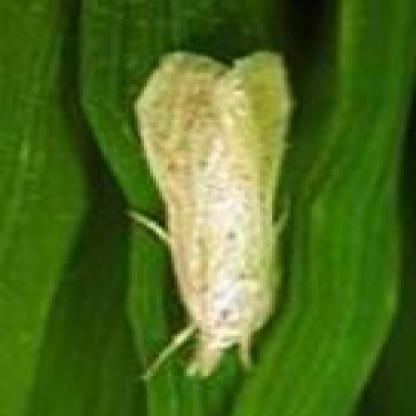stem-borer: (121, 49, 296, 386)
